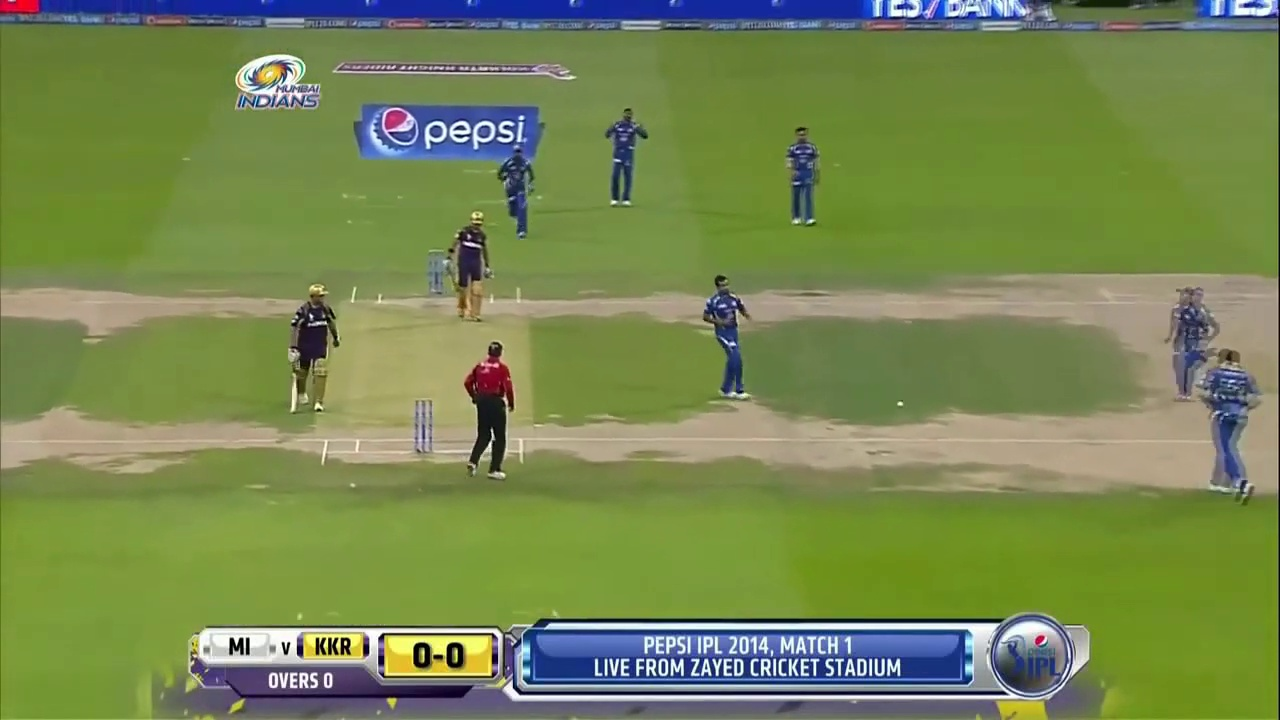bat: (289, 364, 297, 413)
stumps: (413, 398, 432, 455)
